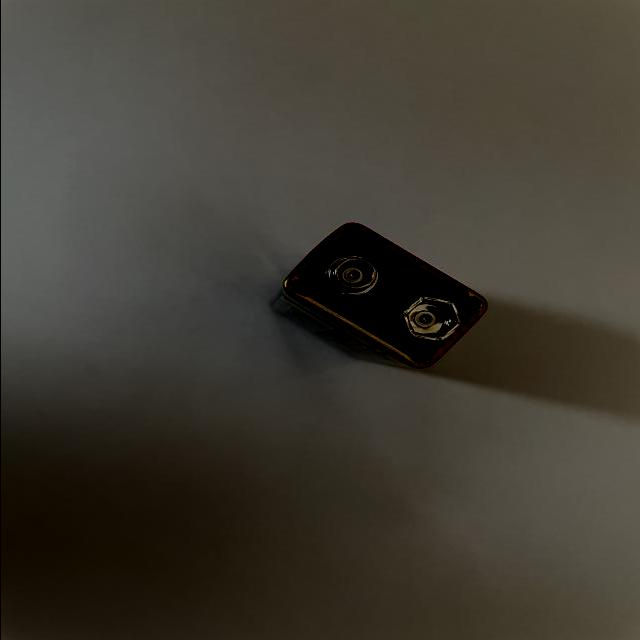9V: (265, 223, 486, 370)
